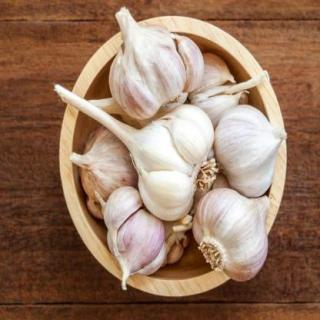Bawang Putih: (136, 104, 215, 223), (110, 25, 204, 121), (193, 189, 271, 285), (215, 106, 287, 199), (101, 186, 168, 277)
